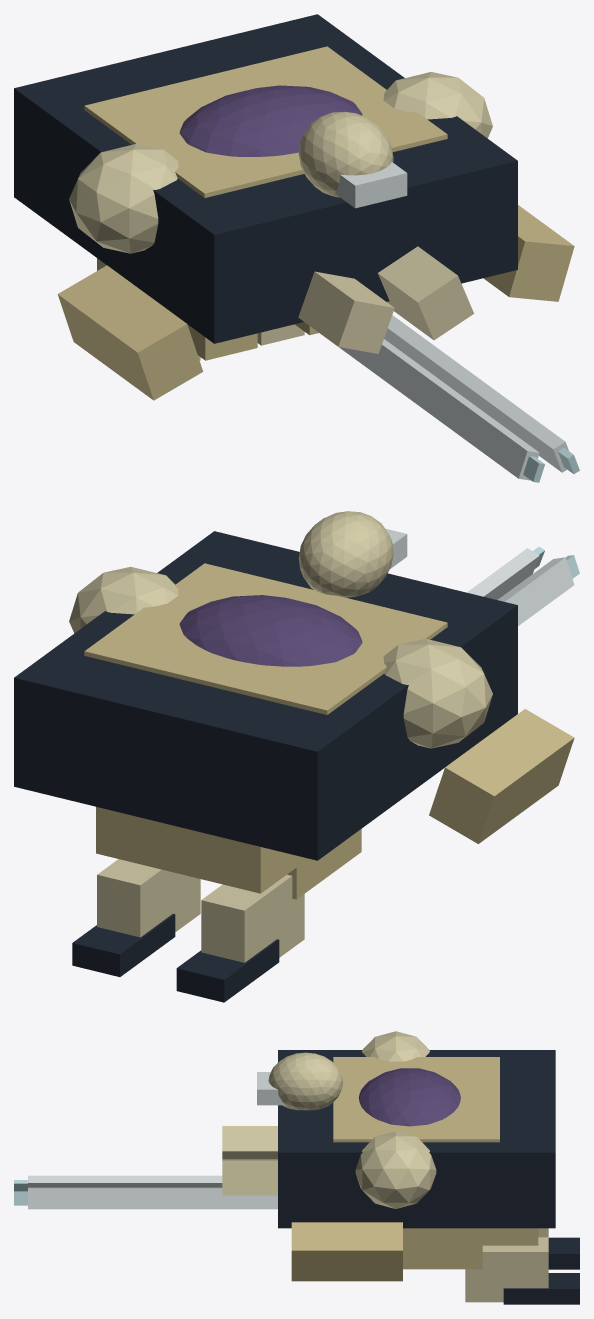
File: helias_sunblade.glb
The picture shows the model from 3 angles, top to bottom: view 1: azimuth 30°, elevation 25°; view 2: azimuth 150°, elevation 25°; view 3: azimuth 270°, elevation 25°; orthographic projection. The views are drawn at different scales.
Parts seen in each view (by area): view 1: torso_shadow, torso, upper_arm_-1, chest_core, shoulder_-1, phase_blade_-1, phase_blade_1, helm, forearm_1, forearm_-1, upper_arm_1, shoulder_1 (+3 smaller); view 2: torso_shadow, torso, upper_arm_-1, chest_core, pelvis, shoulder_-1, shin_-1, helm, shin_1, shoulder_1, foot_-1, foot_1 (+3 smaller); view 3: torso_shadow, torso, upper_arm_1, phase_blade_1, shoulder_1, chest_core, shin_1, helm, phase_blade_-1, thigh_1, forearm_1, forearm_-1 (+5 smaller).
Part boxes in pixels (x1,y1,x2,y2): torso_shadow: (14, 14, 517, 343); torso: (84, 46, 447, 197); upper_arm_-1: (57, 265, 203, 400); chest_core: (179, 85, 362, 156); shoulder_-1: (69, 144, 178, 253); phase_blade_-1: (339, 339, 539, 480); phase_blade_1: (384, 315, 568, 472); helm: (298, 111, 393, 197); forearm_1: (378, 246, 473, 340); forearm_-1: (298, 271, 394, 353); upper_arm_1: (483, 205, 574, 301); shoulder_1: (383, 72, 492, 138); torso_shadow: (14, 531, 517, 860); torso: (84, 563, 447, 714); upper_arm_-1: (429, 709, 574, 843); chest_core: (179, 595, 362, 666); pelvis: (96, 807, 307, 893); shoulder_-1: (383, 638, 492, 748); shin_-1: (201, 874, 304, 962); helm: (298, 511, 393, 597); shin_1: (97, 859, 200, 937); shoulder_1: (69, 566, 178, 633); foot_-1: (176, 939, 279, 1002); foot_1: (72, 913, 175, 976); torso_shadow: (278, 1050, 555, 1228); torso: (333, 1057, 499, 1142); upper_arm_1: (291, 1222, 402, 1281); phase_blade_1: (28, 1187, 277, 1209); shoulder_1: (355, 1131, 436, 1208); chest_core: (359, 1068, 460, 1126); shin_1: (465, 1237, 548, 1302); helm: (268, 1052, 342, 1110); phase_blade_-1: (28, 1175, 222, 1187); thigh_1: (403, 1228, 482, 1269); forearm_1: (222, 1159, 277, 1195); forearm_-1: (222, 1126, 277, 1159).
Size of the model in its own units: 1.01 by 0.7105 by 1.63.
